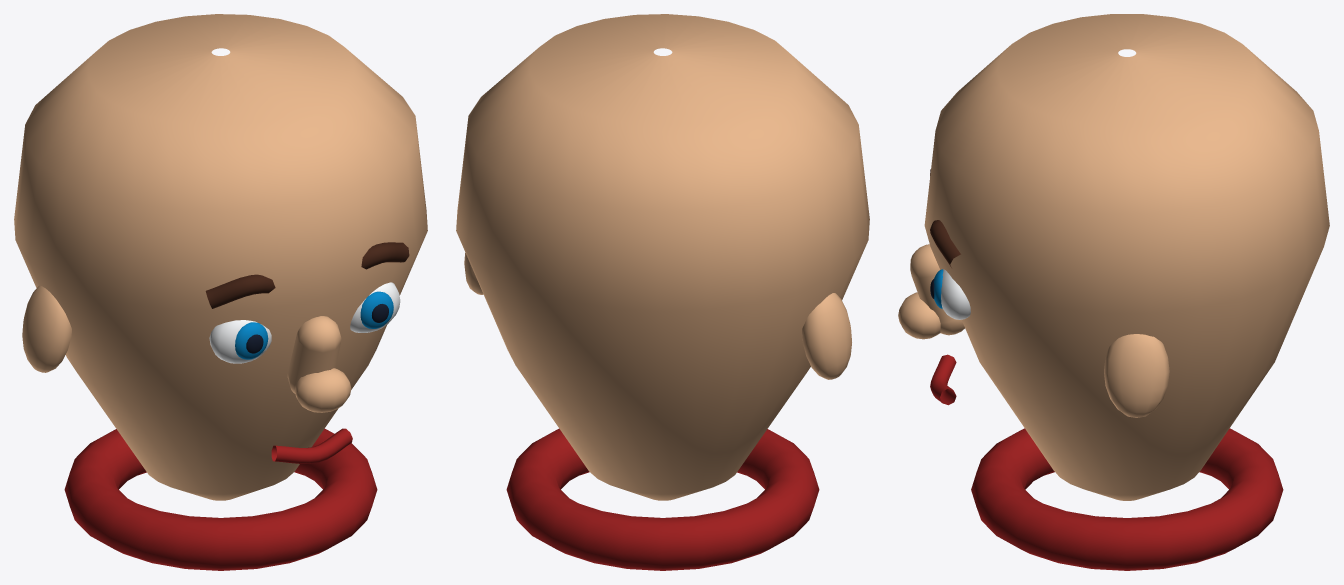
The model's file is heart.glb.
The picture shows the model from 3 angles, left to right: view 1: azimuth 30°, elevation 25°; view 2: azimuth 150°, elevation 25°; view 3: azimuth 270°, elevation 25°; orthographic projection.
Parts seen in each view (by area): view 1: cranium, collar_accent, ear_r, nose_bridge, nose_tip, mouth_ridge, brow_-1, eye_sclera_-1, brow_1, eye_iris_-1, eye_iris_1, eye_sclera_1; view 2: cranium, collar_accent, ear_r; view 3: cranium, collar_accent, ear_l, nose_bridge, nose_tip, eye_sclera_1, mouth_ridge, brow_1.
Part boxes in pixels (<box>): cranium: <box>14,14,427,500</box>; collar_accent: <box>64,428,377,570</box>; ear_r: <box>22,285,71,372</box>; nose_bridge: <box>287,316,341,393</box>; nose_tip: <box>294,368,351,412</box>; mouth_ridge: <box>271,428,352,463</box>; brow_-1: <box>205,274,275,308</box>; eye_sclera_-1: <box>209,320,271,363</box>; brow_1: <box>361,242,409,269</box>; eye_iris_-1: <box>235,322,268,359</box>; eye_iris_1: <box>360,291,393,328</box>; eye_sclera_1: <box>350,282,400,332</box>; cranium: <box>456,14,869,500</box>; collar_accent: <box>506,428,819,570</box>; ear_r: <box>802,293,851,379</box>; cranium: <box>924,14,1329,500</box>; collar_accent: <box>971,428,1283,570</box>; ear_l: <box>1104,334,1169,417</box>; nose_bridge: <box>910,244,964,335</box>; nose_tip: <box>898,292,940,339</box>; eye_sclera_1: <box>941,269,970,319</box>; mouth_ridge: <box>930,354,956,405</box>; brow_1: <box>930,220,960,267</box>.
Bounding box in the file's own units: 0.2282 × 0.2663 × 0.2267.
